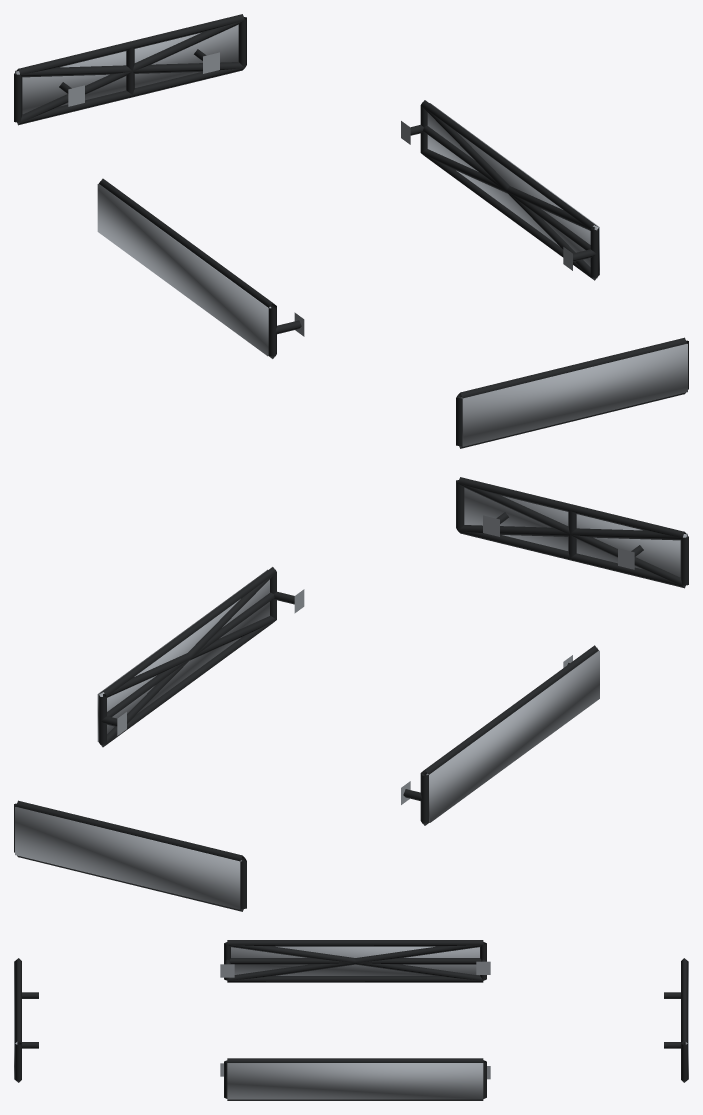
The model's file is bancroft_oleiro_protecao.glb.
3 views of the same model, one above another, from view 1: azimuth 30°, elevation 25°; view 2: azimuth 150°, elevation 25°; view 3: azimuth 270°, elevation 25° (orthographic). The views are drawn at different scales.
Visible parts, largest first — view 1: Protection_front_Level3_Details, Protection_left_Level3_Details, Protection_rear_Level1_Details, Protection_rear_Level3_Details, Protection_right_Level1_Details, Protection_right_Level2_Details, Protection_rear_Level2_Details, Protection_right_Level3_Details, Protection_front_Level1_Details, Protection_left_Level1_Details; view 2: Protection_rear_Level3_Details, Protection_left_Level3_Details, Protection_front_Level1_Details, Protection_front_Level3_Details, Protection_right_Level1_Details, Protection_right_Level2_Details, Protection_front_Level2_Details, Protection_right_Level3_Details, Protection_rear_Level1_Details, Protection_left_Level1_Details; view 3: Protection_right_Level3_Details, Protection_left_Level2_Details, Protection_left_Level1_Details, Protection_left_Level3_Details, Protection_right_Level1_Details, Protection_rear_Level1_Details, Protection_front_Level1_Details.
Boxes of the visible parts, left/top/right/bottom form: Protection_front_Level3_Details: left=461, top=344, right=687, bottom=446; Protection_left_Level3_Details: left=97, top=183, right=271, bottom=356; Protection_rear_Level1_Details: left=14, top=14, right=246, bottom=125; Protection_rear_Level3_Details: left=15, top=24, right=238, bottom=114; Protection_right_Level1_Details: left=401, top=100, right=598, bottom=280; Protection_right_Level2_Details: left=421, top=106, right=597, bottom=280; Protection_rear_Level2_Details: left=16, top=20, right=244, bottom=124; Protection_right_Level3_Details: left=427, top=103, right=599, bottom=275; Protection_front_Level1_Details: left=456, top=337, right=688, bottom=448; Protection_left_Level1_Details: left=99, top=178, right=304, bottom=358; Protection_rear_Level3_Details: left=15, top=807, right=241, bottom=909; Protection_left_Level3_Details: left=426, top=650, right=599, bottom=822; Protection_front_Level1_Details: left=456, top=477, right=688, bottom=588; Protection_front_Level3_Details: left=464, top=487, right=687, bottom=577; Protection_right_Level1_Details: left=98, top=567, right=304, bottom=747; Protection_right_Level2_Details: left=100, top=572, right=276, bottom=746; Protection_front_Level2_Details: left=458, top=483, right=686, bottom=587; Protection_right_Level3_Details: left=97, top=569, right=269, bottom=741; Protection_rear_Level1_Details: left=14, top=800, right=246, bottom=911; Protection_left_Level1_Details: left=401, top=645, right=598, bottom=825; Protection_right_Level3_Details: left=227, top=1063, right=483, bottom=1099; Protection_left_Level2_Details: left=227, top=942, right=483, bottom=980; Protection_left_Level1_Details: left=220, top=940, right=490, bottom=982; Protection_left_Level3_Details: left=231, top=946, right=479, bottom=975; Protection_right_Level1_Details: left=220, top=1058, right=490, bottom=1100; Protection_rear_Level1_Details: left=664, top=958, right=687, bottom=1082; Protection_front_Level1_Details: left=15, top=958, right=38, bottom=1082.
Size of the model in its own units: 2.18 by 0.354 by 5.09.
Materials: 1 (1 with a texture image).
